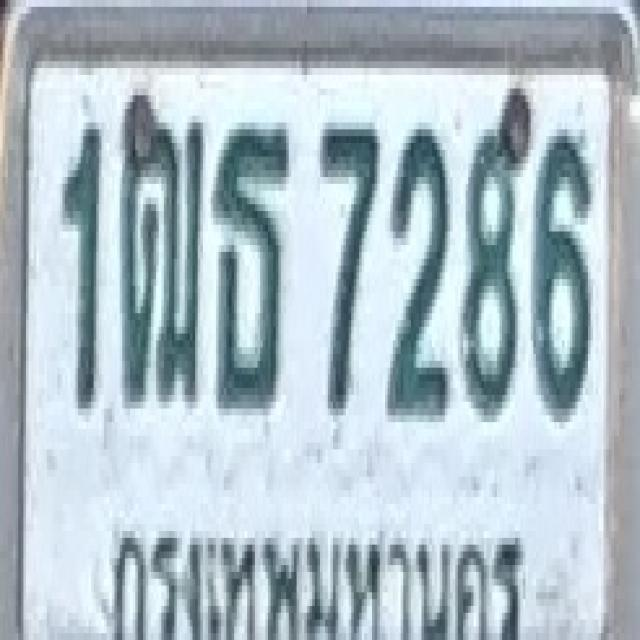-: (120, 85, 206, 405), (212, 115, 290, 408)
1: (60, 115, 101, 408)
2: (386, 119, 449, 412)
6: (532, 122, 589, 416)
7: (318, 119, 378, 412)
8: (460, 82, 530, 415)
BKK: (106, 505, 532, 640)
